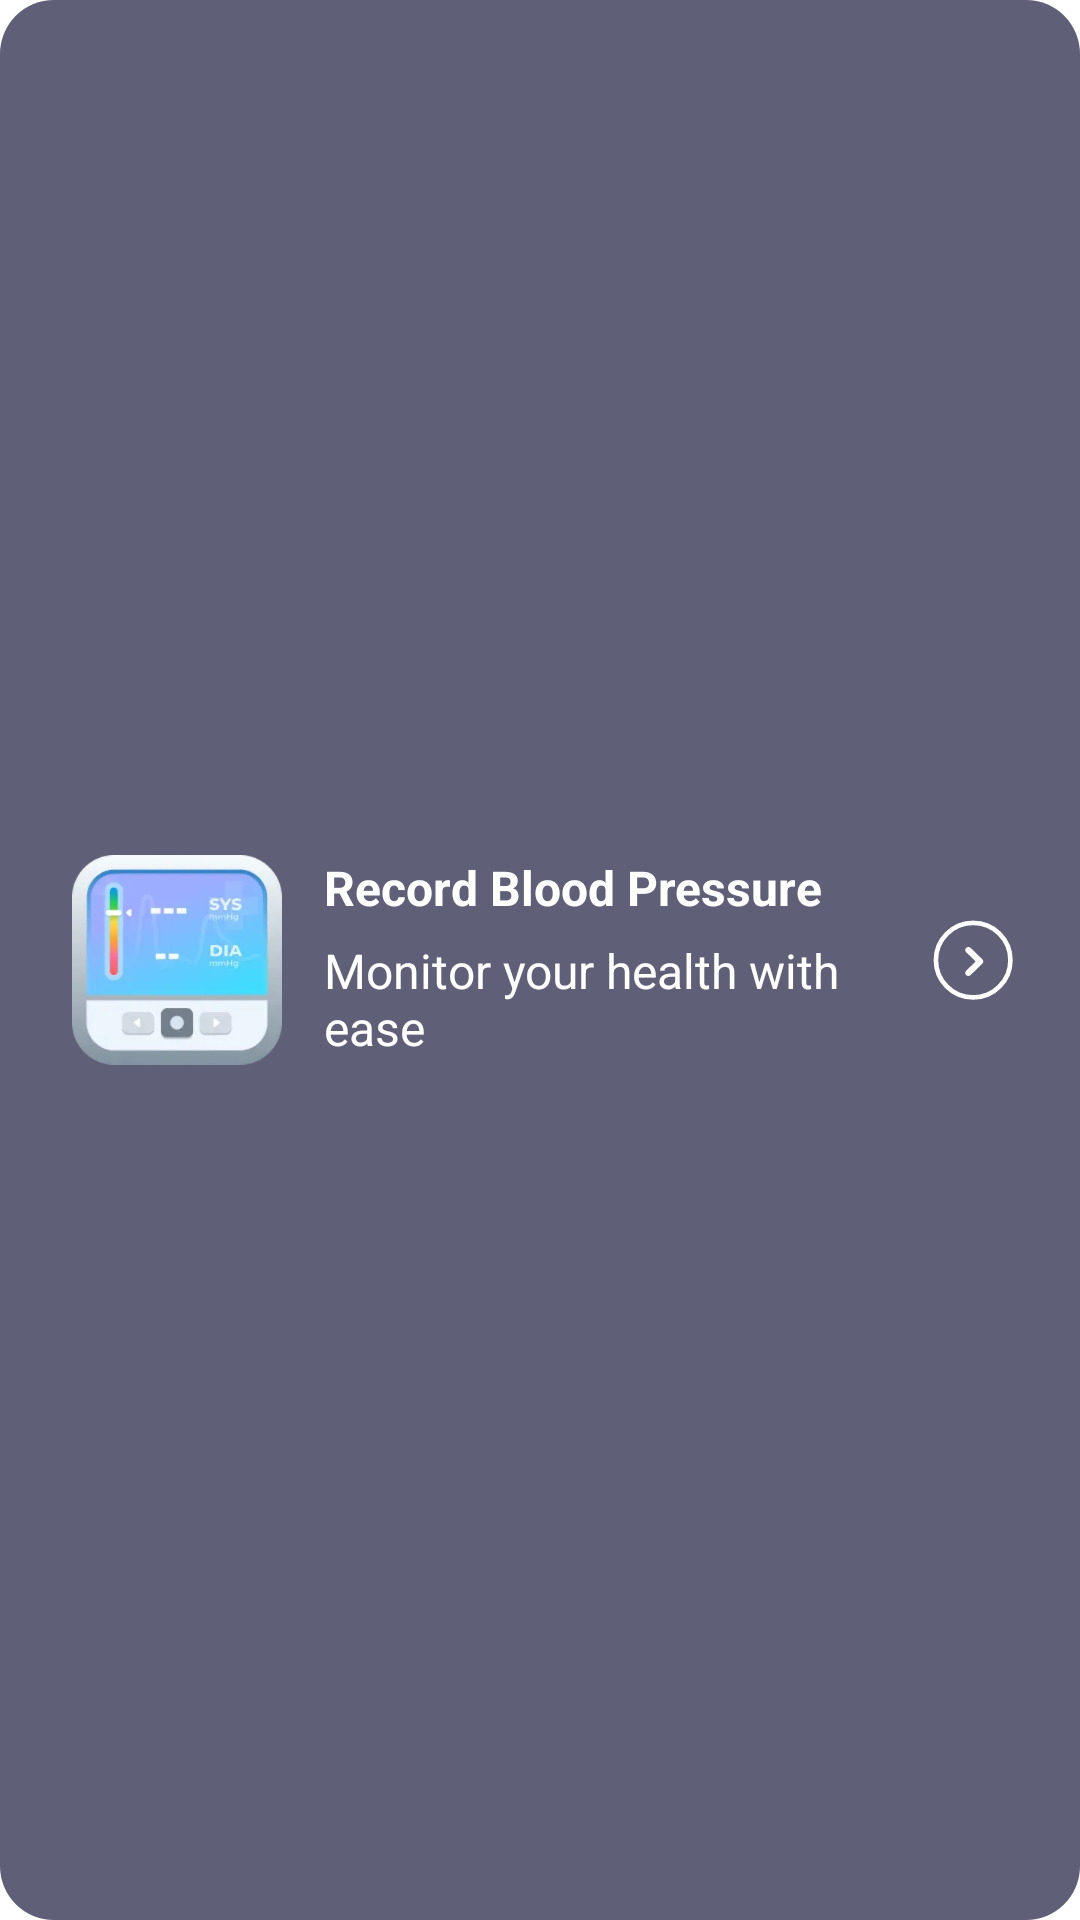

Point at icon controls on the screen. Image size 1080px x 1920px, points as (x,y).
arrow right: (973,960)
